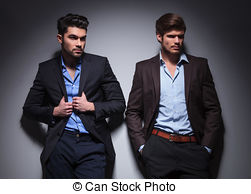face: (53, 11, 93, 63), (152, 12, 190, 58)
